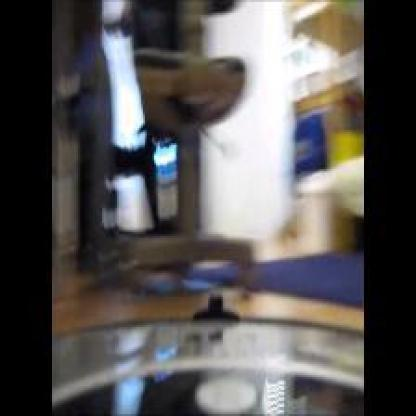other: (312, 116, 358, 163)
